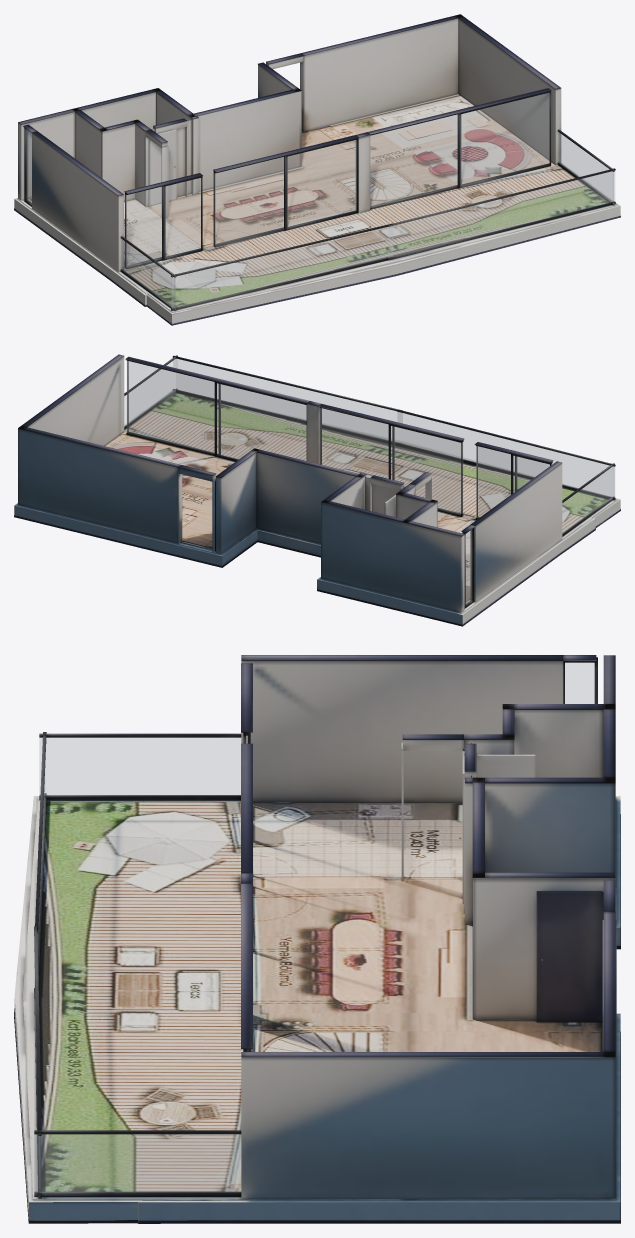
3 renders of one model, top to bottom at view 1: azimuth 30°, elevation 25°; view 2: azimuth 150°, elevation 25°; view 3: azimuth 270°, elevation 25°, orthographic. The views are drawn at different scales.
Visible parts, largest first — view 1: plan, glass3_m, glass2_m, railg2_m, railg3_m, glass1_m, railg1_m, railg0_m; view 2: plan, glass3_m, glass2_m, railg2_m, railg3_m, glass1_m, railg1_m, railg0_m, glass0_m; view 3: plan, railg0_m, railg1_m, glass0_m.
Boxes of the visible parts, box(x1,y1,x2,y2) form: plan: box(14, 14, 620, 325); glass3_m: box(370, 93, 549, 206); glass2_m: box(214, 140, 356, 244); railg2_m: box(388, 171, 614, 257); railg3_m: box(171, 226, 392, 308); glass1_m: box(126, 178, 200, 266); railg1_m: box(121, 239, 175, 308); railg0_m: box(558, 132, 613, 202); plan: box(14, 354, 620, 626); glass3_m: box(127, 361, 306, 460); glass2_m: box(320, 408, 460, 513); railg2_m: box(173, 359, 402, 441); railg3_m: box(397, 412, 614, 497); glass1_m: box(476, 446, 549, 517); railg1_m: box(562, 467, 613, 533); railg0_m: box(124, 359, 176, 426); glass0_m: box(466, 530, 471, 604); plan: box(14, 655, 620, 1223); railg0_m: box(34, 1134, 240, 1192); railg1_m: box(39, 738, 240, 795); glass0_m: box(565, 663, 594, 703).
Size of the model in its own units: 13.95 by 2.62 by 8.78.
Materials: 2 (1 with a texture image).
